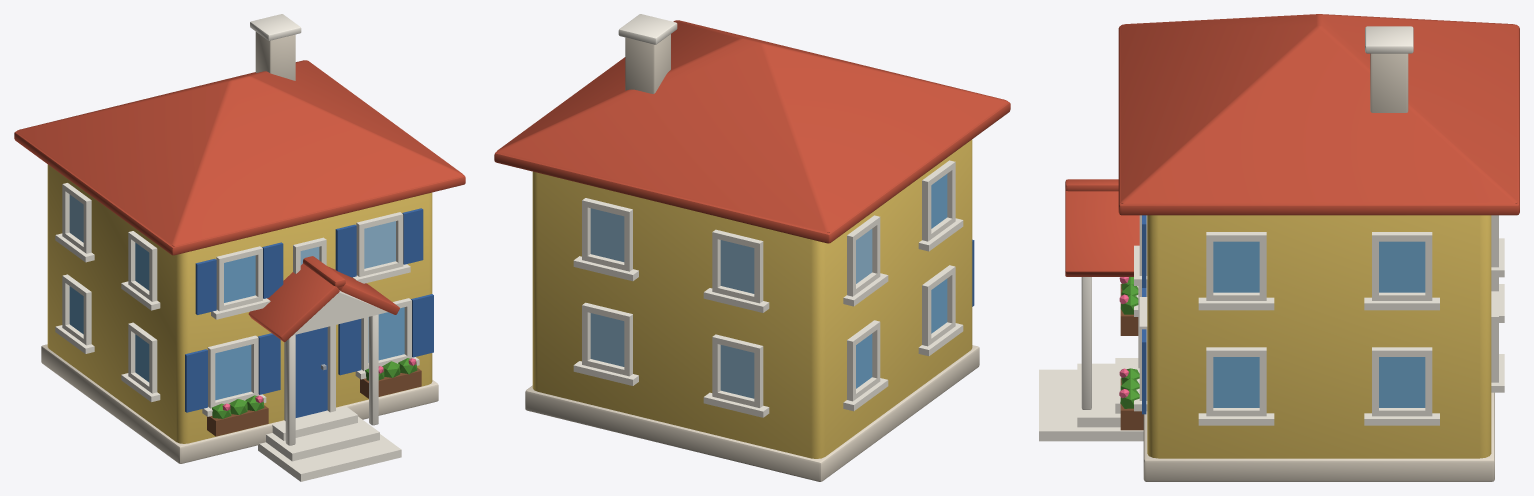
Rendered from building_house.glb.
The picture shows the model from 3 angles, left to right: view 1: azimuth 30°, elevation 25°; view 2: azimuth 150°, elevation 25°; view 3: azimuth 270°, elevation 25°; orthographic projection. The views are drawn at different scales.
Visible parts, largest first — view 1: building; view 2: building; view 3: building.
Part boxes in pixels (box(x1,y1,x2,y2)): building: box(14, 14, 465, 481); building: box(494, 14, 1010, 481); building: box(1039, 14, 1519, 481).
Size of the model in its own units: 6.72 by 7.16 by 7.55.
